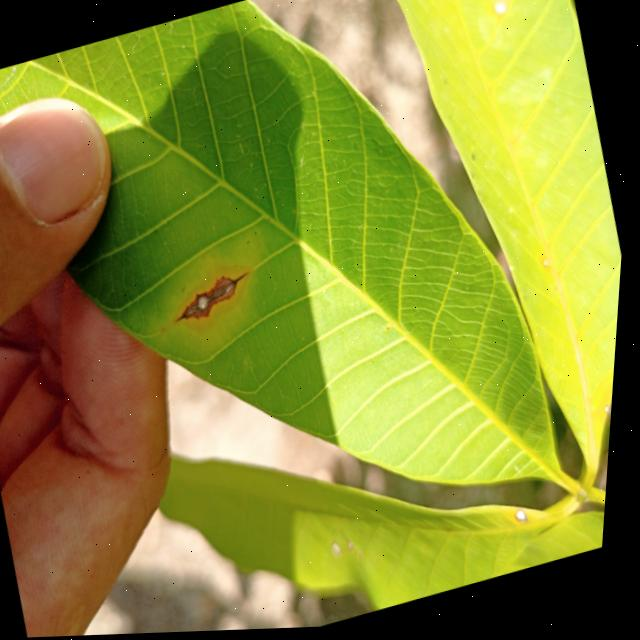Colletotrichum: (520, 512, 535, 528)
Corynespora: (171, 269, 261, 330)
